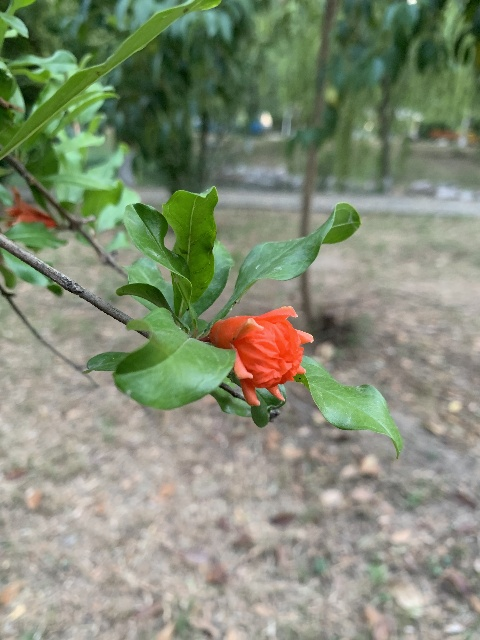flower: (208, 306, 313, 405)
